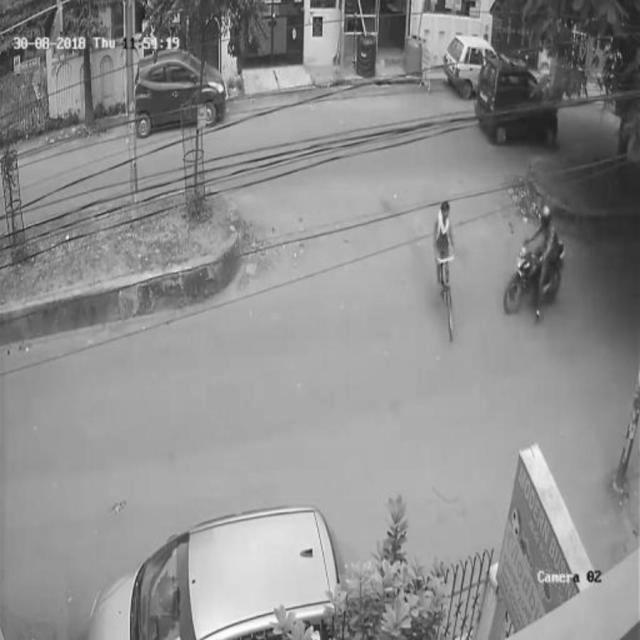vehicle: (90, 506, 343, 638), (130, 50, 228, 134), (472, 55, 558, 147), (497, 206, 567, 318), (433, 199, 459, 343), (446, 35, 498, 92)
